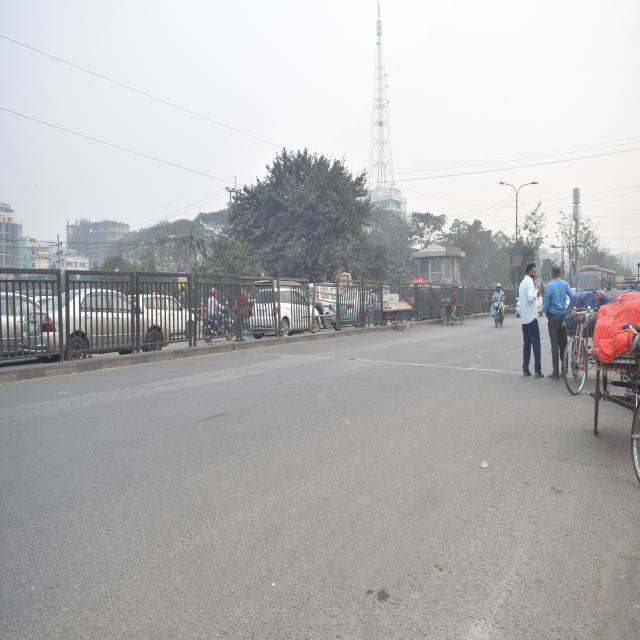bus: (577, 270, 625, 301)
car: (48, 292, 159, 364), (246, 277, 323, 353), (3, 289, 72, 372), (136, 290, 202, 347)
motorbike: (201, 289, 233, 350), (488, 275, 516, 332)
